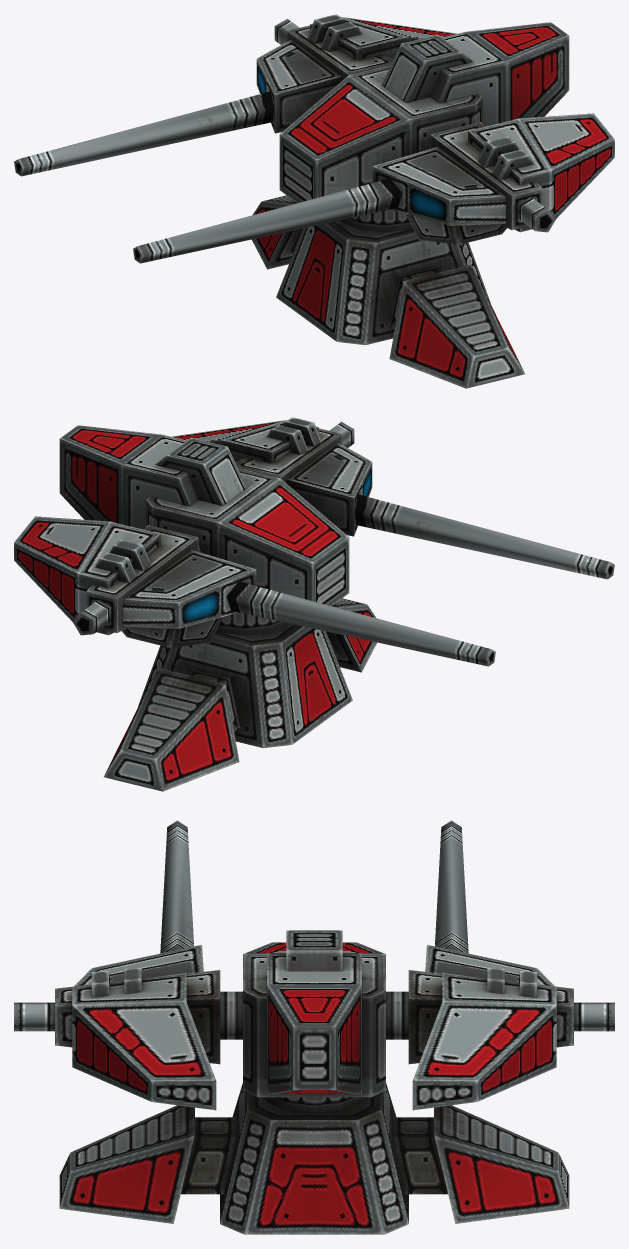
The model's file is sci_fi_turret_4_separated.FBX.
The picture shows the model from 3 angles, top to bottom: view 1: azimuth 30°, elevation 25°; view 2: azimuth 150°, elevation 25°; view 3: azimuth 270°, elevation 25°; orthographic projection. The views are drawn at different scales.
Parts seen in each view (by area): view 1: sci_fi_turret_4_guns, sci_fi_turret_4_top, sci_fi_turret_4_base; view 2: sci_fi_turret_4_guns, sci_fi_turret_4_top, sci_fi_turret_4_base; view 3: sci_fi_turret_4_guns, sci_fi_turret_4_base, sci_fi_turret_4_top.
Part boxes in pixels (x1,y1,x2,y2): sci_fi_turret_4_guns: [14, 14, 614, 263]; sci_fi_turret_4_top: [279, 22, 569, 232]; sci_fi_turret_4_base: [251, 195, 524, 388]; sci_fi_turret_4_guns: [14, 417, 614, 666]; sci_fi_turret_4_top: [59, 425, 349, 635]; sci_fi_turret_4_base: [104, 598, 377, 791]; sci_fi_turret_4_guns: [14, 820, 614, 1110]; sci_fi_turret_4_base: [59, 1083, 569, 1234]; sci_fi_turret_4_top: [243, 930, 385, 1113].
Bounding box in the file's own units: 67.58 × 32.27 × 63.32.
